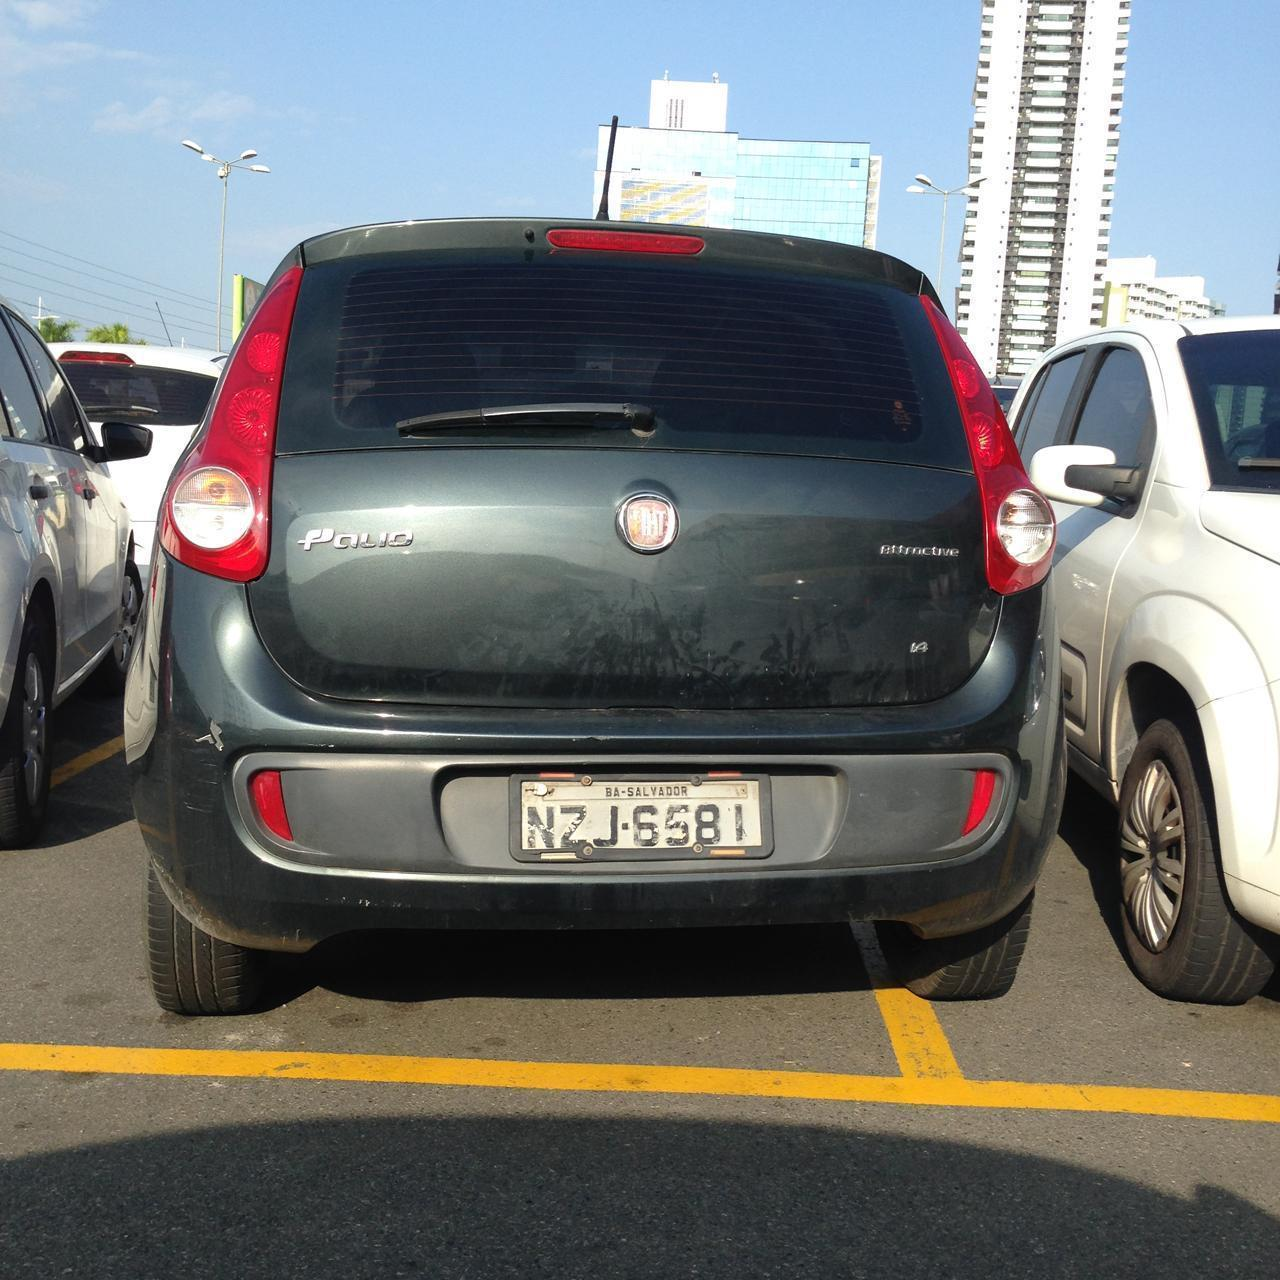placa de veiculo: (471, 747, 793, 881)
